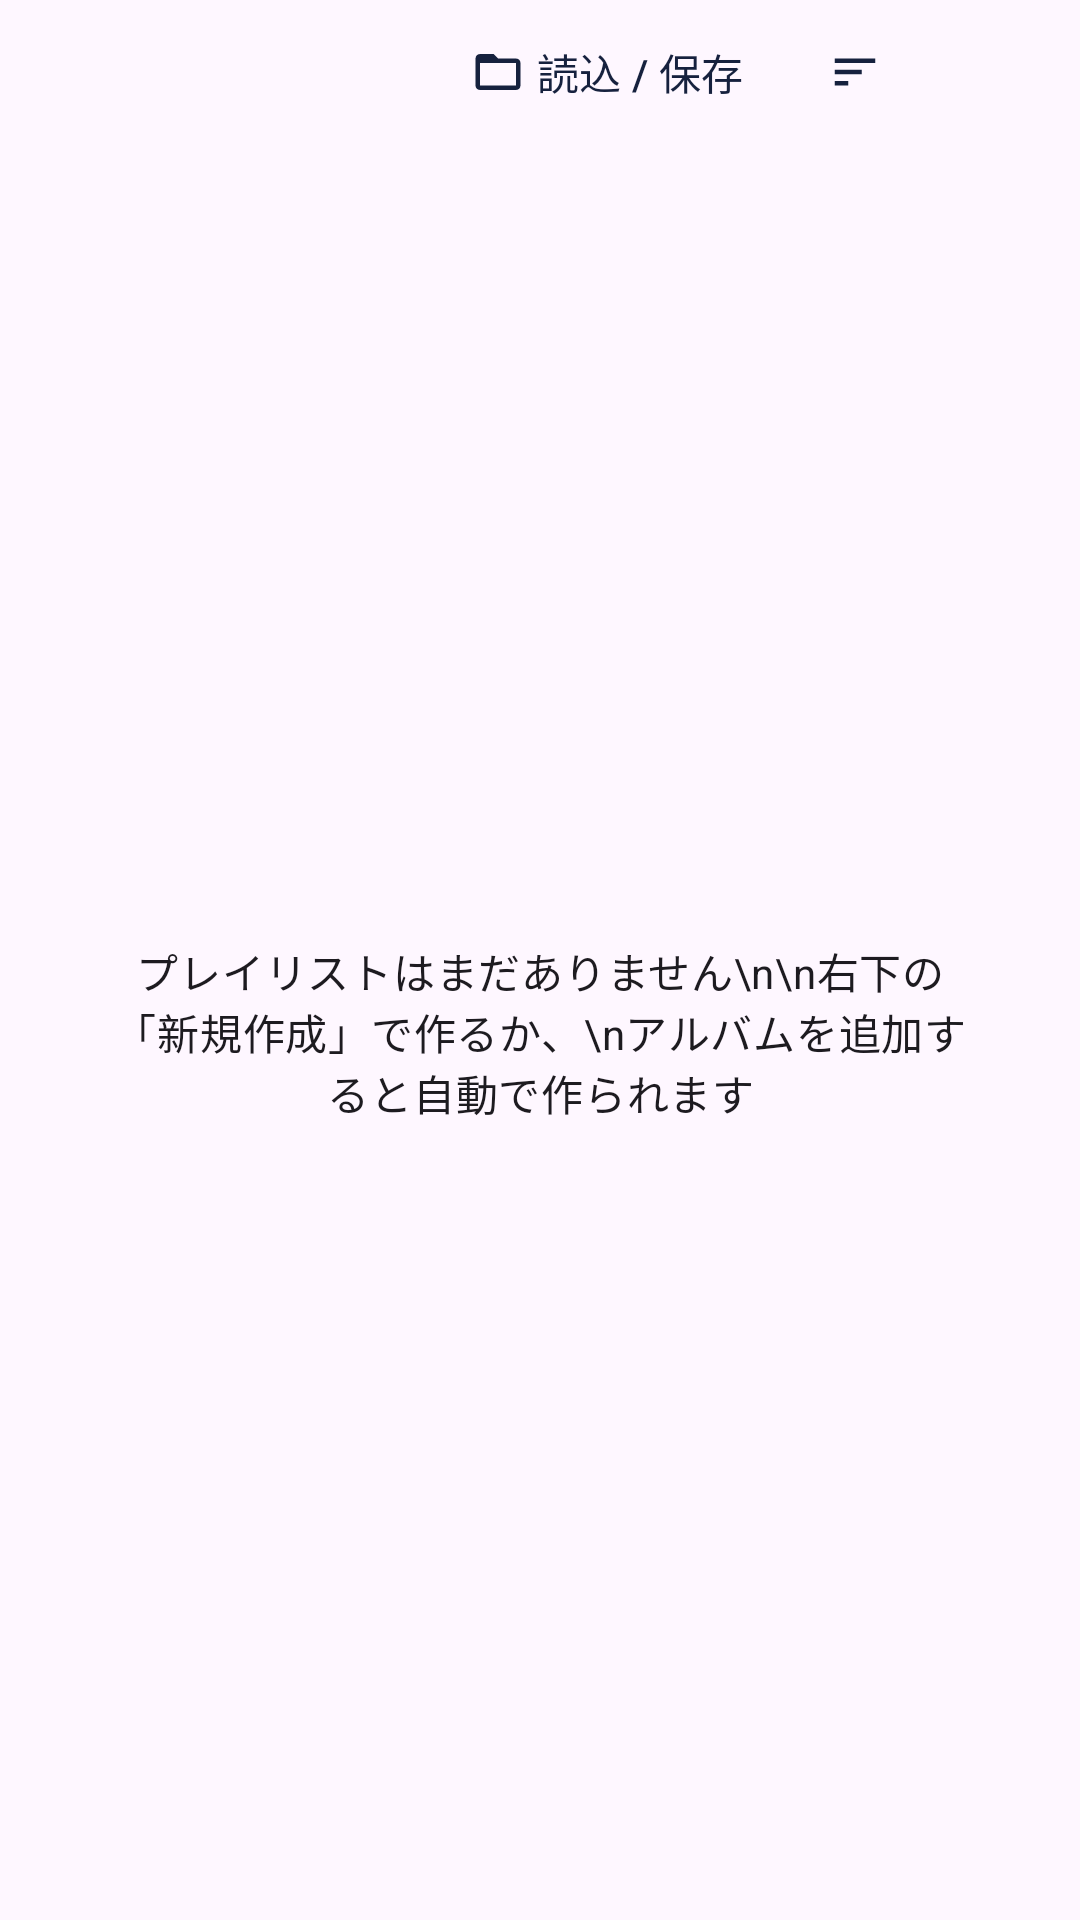

Named icons in this screenshot (1080 x 1920) and their centers, (x=x, y=y):
sort: (x=855, y=72)
